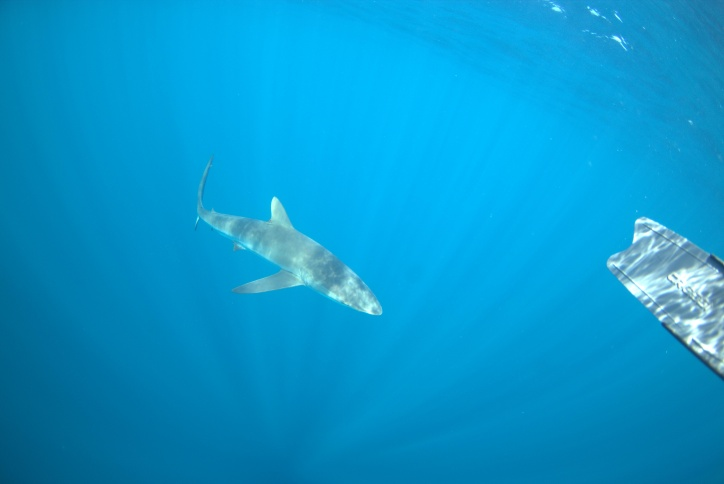Sedoso: (180, 150, 403, 332)
